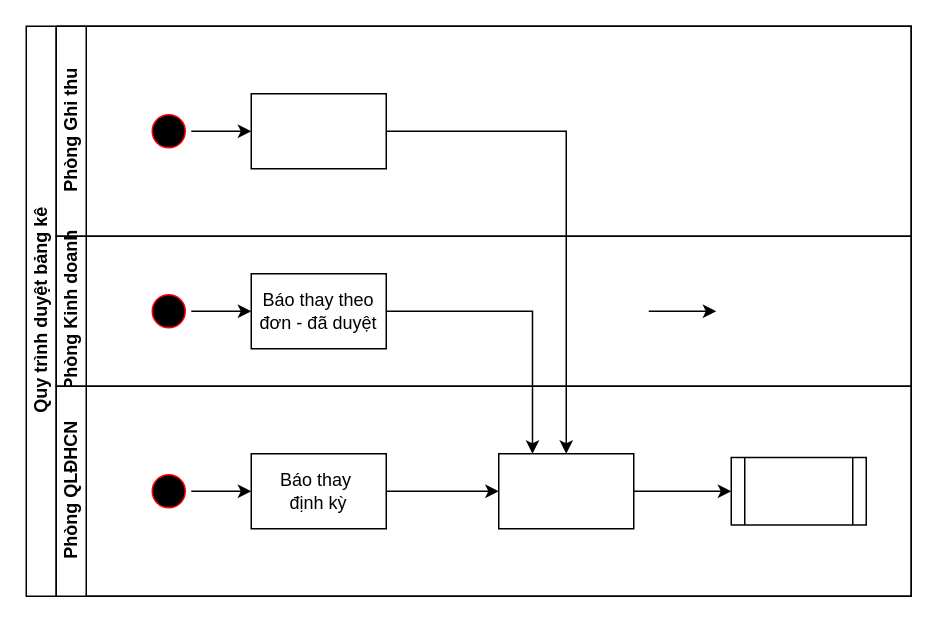
Image size: 938x623. Some labels were removed from this diagram. Each missing label, with the centre of its shape:
Báo thay theo code - đã duyệt: (x=318, y=130)
Lập bảng kê: (x=565, y=490)
PGĐ duyệt bảng kê: (x=798, y=490)
